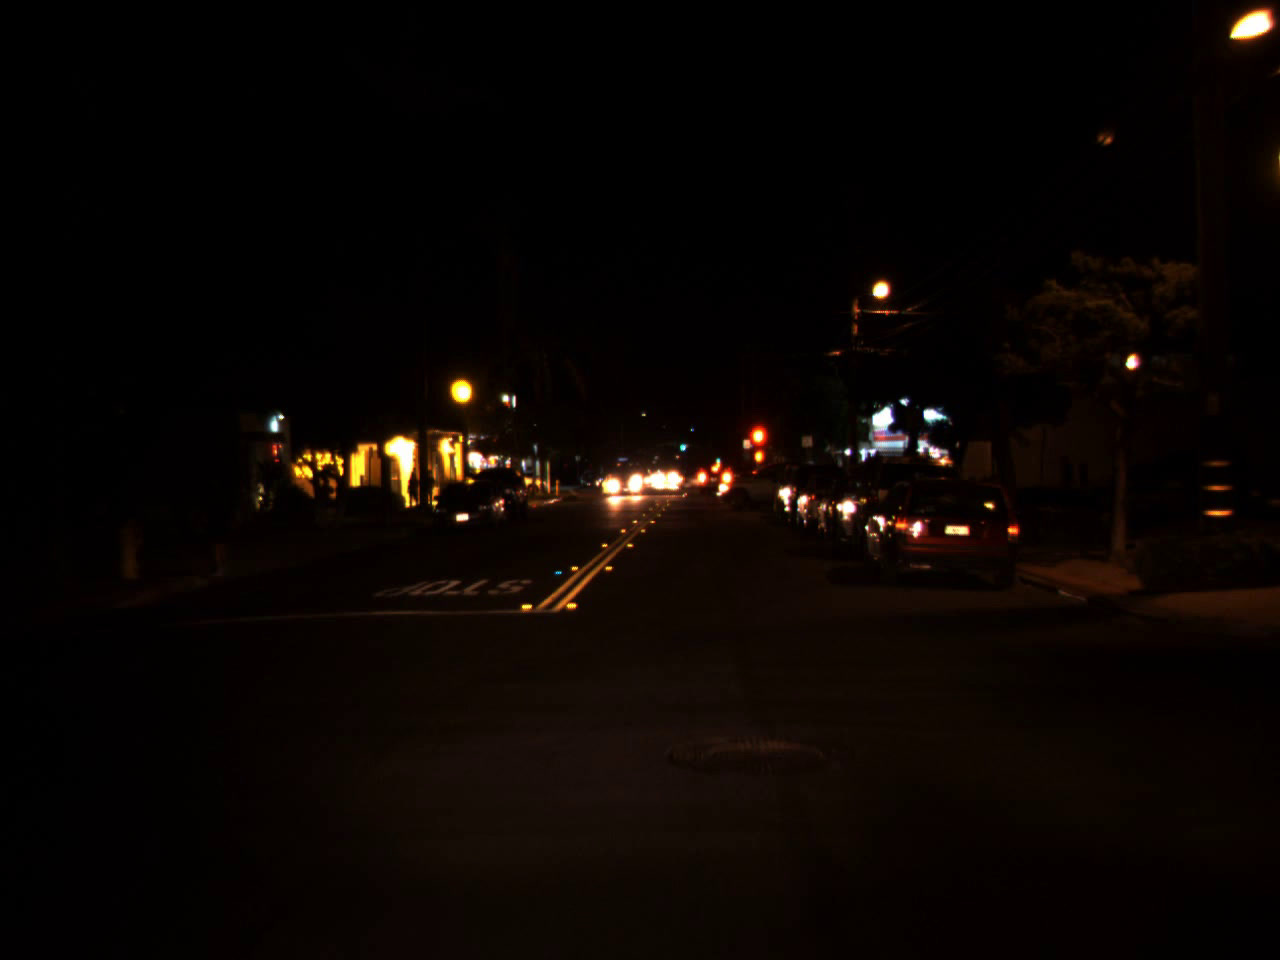go: (677, 437, 686, 452), (713, 449, 722, 464)
stop: (744, 421, 769, 472)
